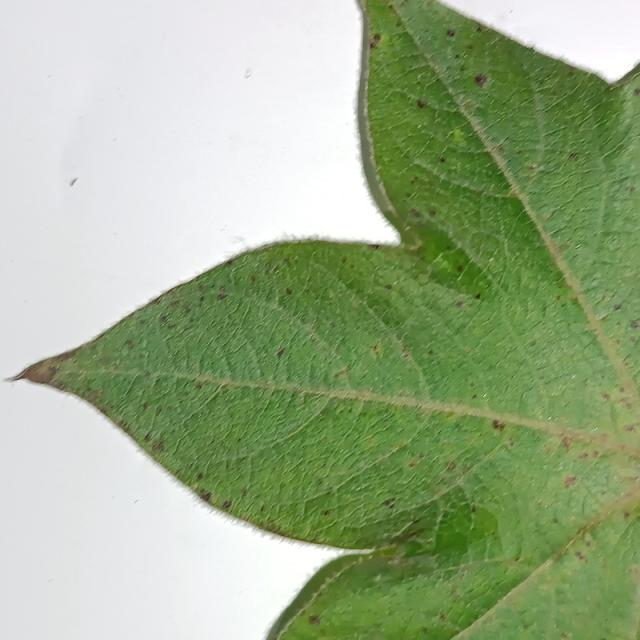Bacterial_Blight: (142, 283, 225, 341), (595, 311, 640, 377), (489, 413, 512, 434), (451, 127, 467, 144), (400, 344, 415, 362), (333, 365, 352, 379), (474, 73, 488, 86), (115, 418, 128, 431), (199, 489, 211, 502), (561, 436, 572, 450), (564, 475, 576, 487), (151, 441, 164, 452), (386, 4, 397, 17), (628, 318, 639, 330), (446, 461, 457, 472), (383, 498, 395, 508), (308, 615, 320, 625), (623, 424, 636, 433), (450, 585, 459, 598), (371, 33, 381, 44), (584, 532, 593, 544), (160, 314, 170, 324), (69, 177, 79, 187), (276, 347, 285, 358), (243, 68, 252, 79), (143, 433, 152, 443), (416, 99, 426, 108), (568, 151, 578, 160), (124, 339, 134, 348), (625, 185, 636, 193), (575, 550, 584, 559), (222, 500, 231, 509), (225, 258, 235, 266), (634, 567, 640, 580), (217, 292, 226, 300), (411, 209, 420, 217), (408, 460, 417, 468), (370, 41, 378, 50), (602, 392, 610, 401), (613, 303, 622, 311), (579, 452, 588, 460), (194, 382, 203, 390), (446, 29, 455, 37), (497, 144, 505, 153), (456, 264, 464, 272), (285, 287, 293, 295), (196, 472, 204, 480), (283, 257, 291, 265), (438, 613, 446, 621), (395, 20, 403, 28), (241, 488, 248, 497), (372, 344, 379, 353), (142, 401, 149, 410), (370, 244, 380, 250), (455, 301, 463, 308), (411, 177, 418, 185), (470, 505, 477, 513), (592, 450, 599, 458), (629, 336, 636, 344), (635, 319, 640, 329), (429, 209, 436, 216), (474, 293, 481, 300), (323, 509, 330, 516), (439, 156, 446, 163), (529, 340, 536, 347), (475, 26, 482, 33), (421, 627, 428, 634), (624, 511, 631, 518), (384, 284, 392, 290), (427, 349, 434, 355), (556, 294, 562, 301), (552, 517, 558, 524), (467, 44, 474, 50), (460, 65, 466, 71), (636, 88, 640, 96), (561, 636, 569, 640), (471, 394, 477, 399), (600, 637, 607, 640)
Cotton: (18, 0, 639, 639)
